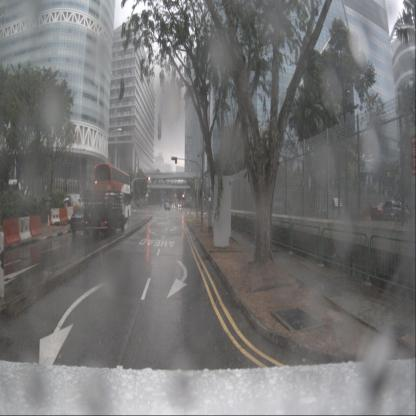human-pedestrian-adult: (43, 196, 52, 223), (62, 197, 70, 221)
movable_object-barrier: (2, 219, 20, 246), (17, 216, 32, 240), (29, 216, 43, 237), (51, 208, 60, 224), (59, 207, 68, 222), (66, 206, 74, 221), (73, 205, 79, 219)
movable_object-trafficcone: (46, 214, 50, 228)
vehicle-bus-rigid: (93, 163, 132, 221)
vehicle-car: (70, 207, 96, 234), (383, 200, 410, 222), (371, 203, 393, 221), (165, 202, 170, 210)
vehicle-truck: (83, 190, 126, 236)
